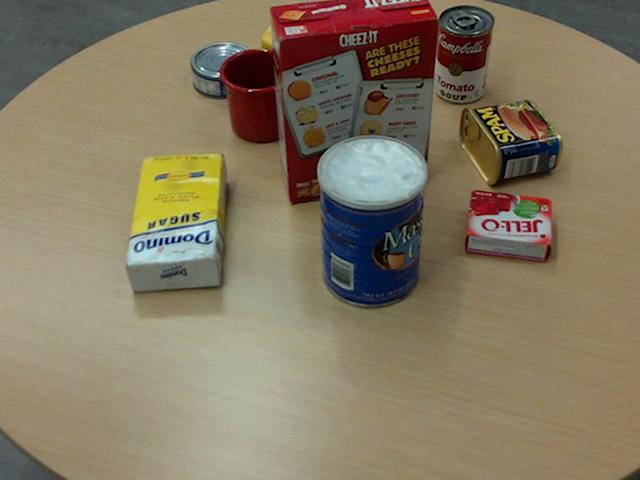cracker_box: (269, 0, 438, 201)
gelatin_box: (464, 188, 553, 260)
large_marker: (394, 38, 414, 128)
master_chef_can: (316, 134, 426, 308)
mug: (218, 48, 310, 141)
mustard_bottle: (260, 10, 403, 90)
potted_meat_can: (458, 99, 561, 184)
sugar_box: (123, 152, 224, 291)
tomato_soup_can: (434, 5, 494, 102)
tuna_fish_can: (189, 41, 256, 97)
